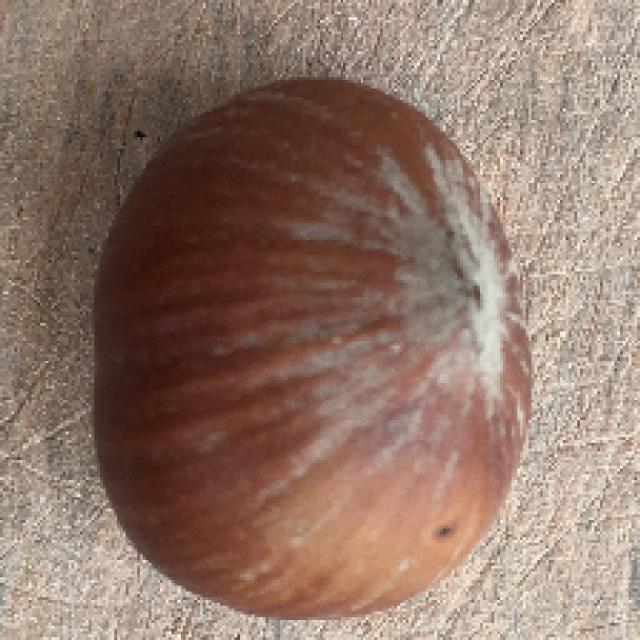qualityHazelnut: (81, 78, 539, 616)
